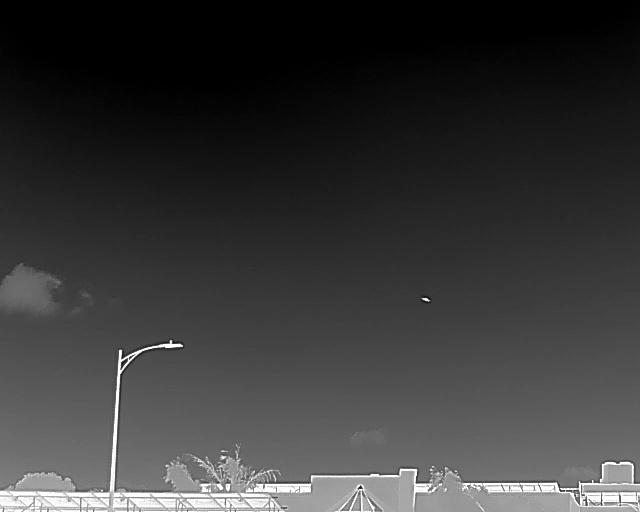fpv-drone: (421, 296, 430, 302)
